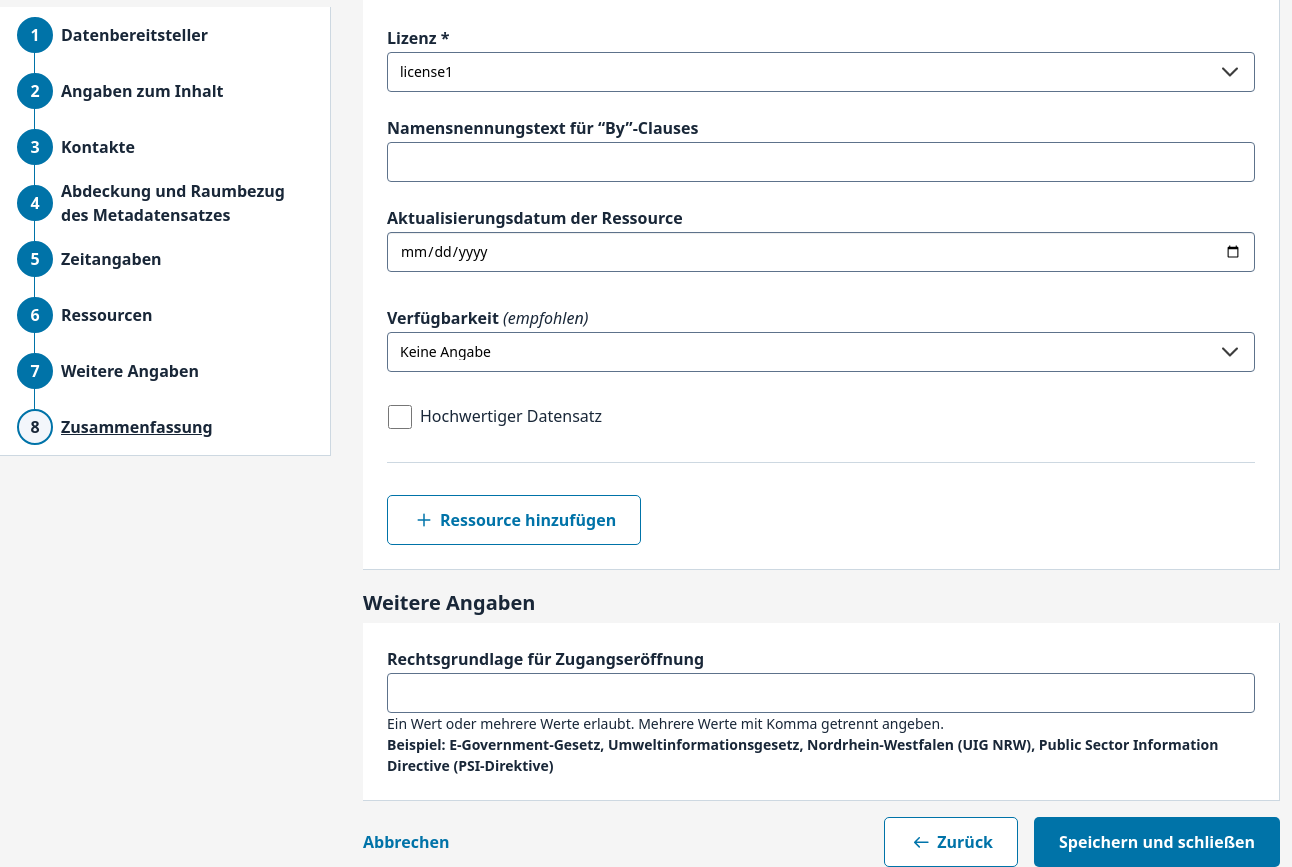
Test case: MetadataForm › should show a data deleted error after a failed request
(page scrolled)
Click the button "Speichern und schließen" at (1157, 842), box [1034,817,1280,866]
(page scrolled)
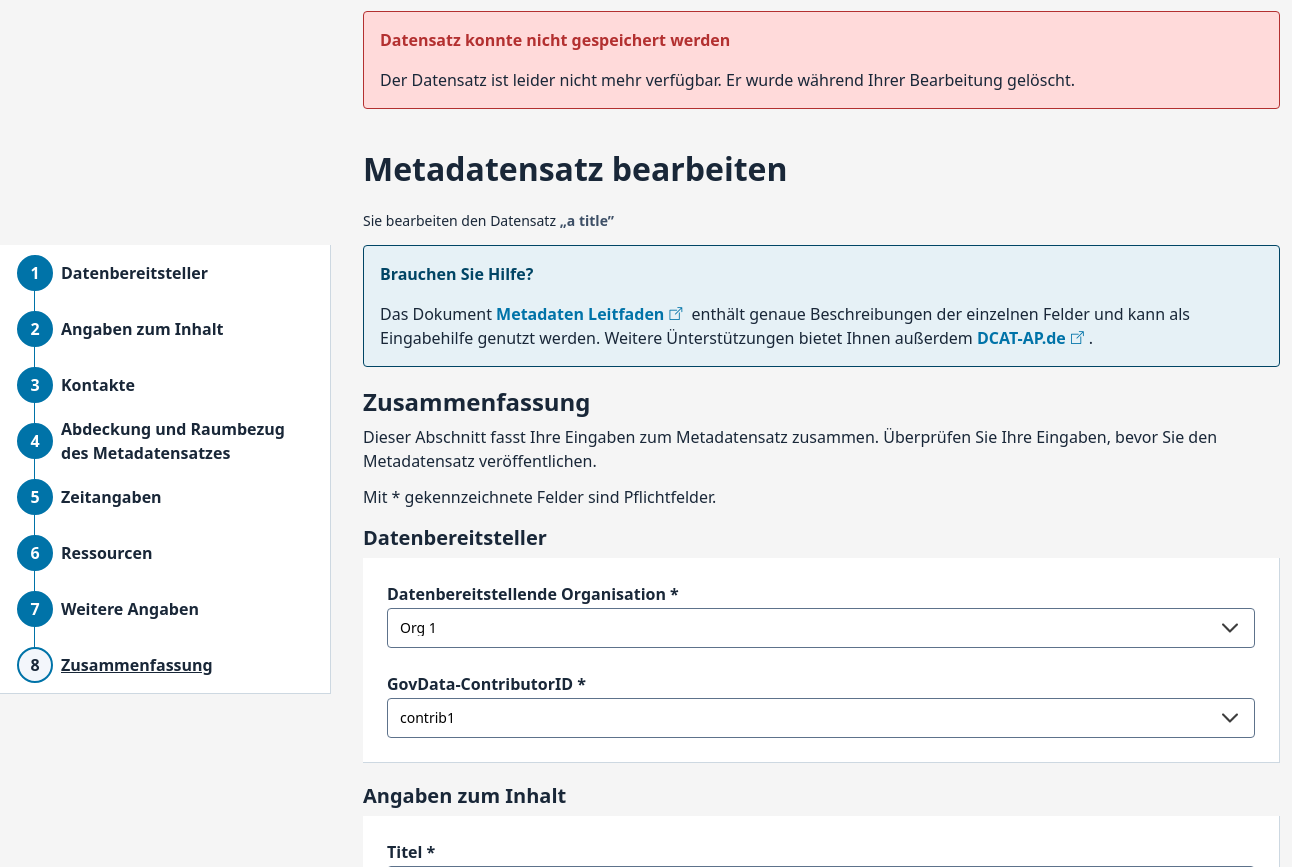
Expected: the text "Der Datensatz ist leider nicht mehr verfügbar" is shown, [380,69,1075,91]
